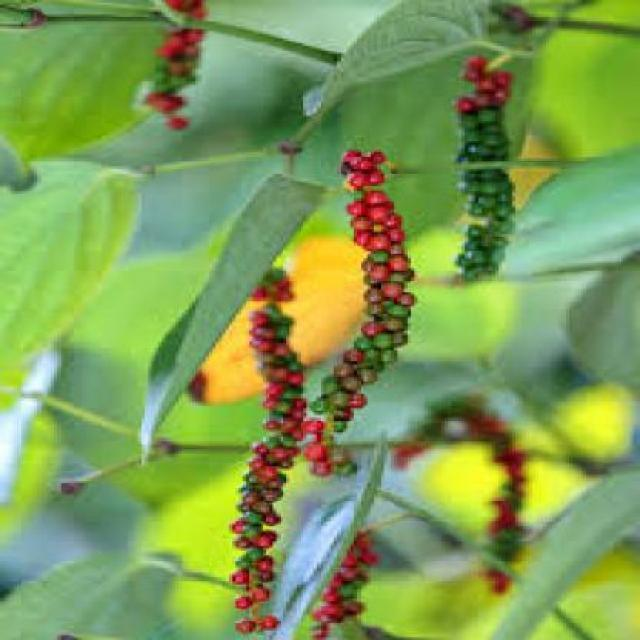RIPE: (313, 143, 418, 423), (239, 259, 310, 619), (151, 0, 219, 118), (323, 533, 394, 638)
